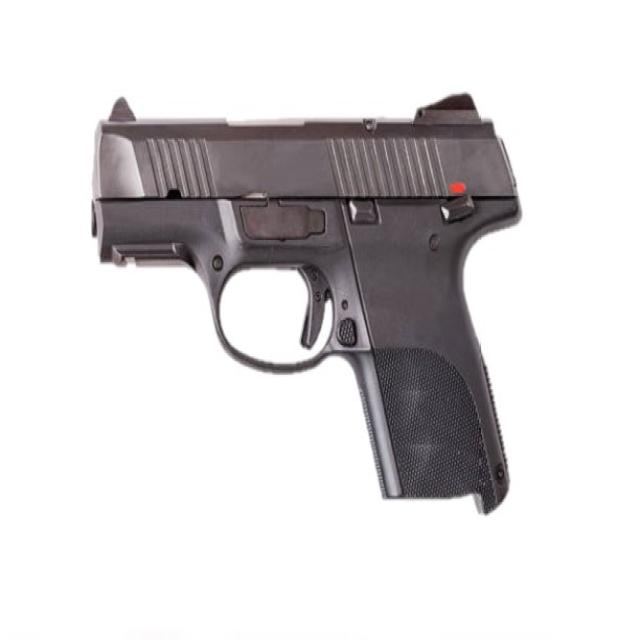pistol: (79, 90, 524, 520)
